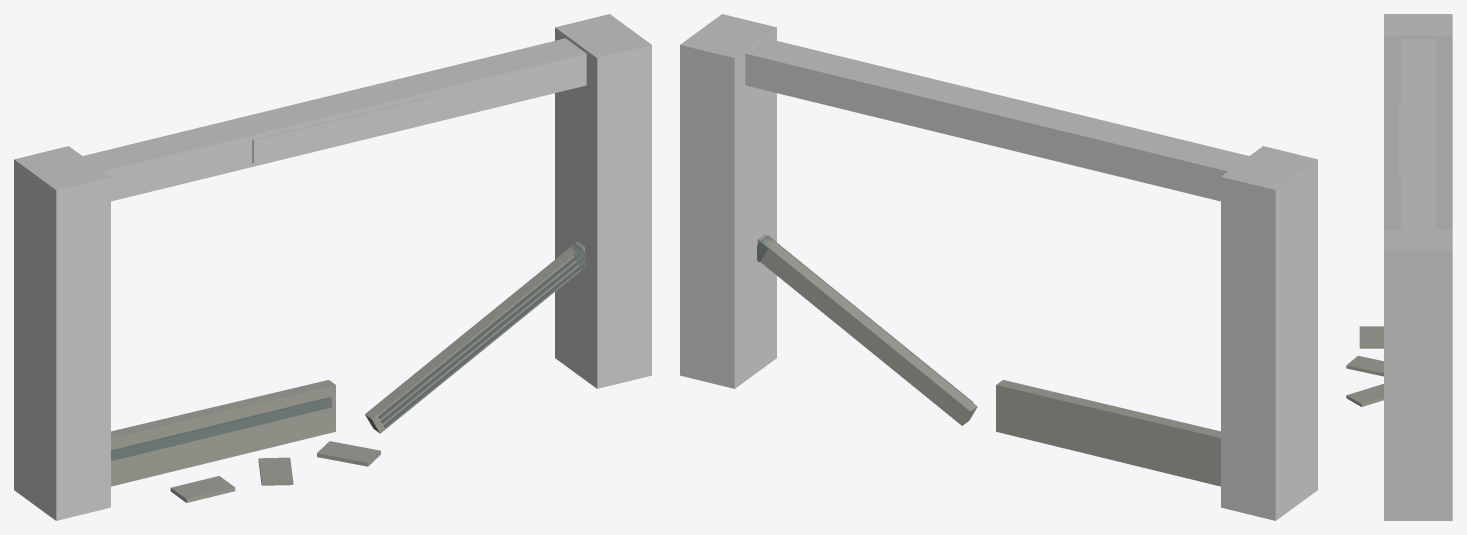
File: SM_PuertaVehiculos_v4_Blindada_e2_MuyDanado_LOD0.fbx
3 views of the same model, side by side, from view 1: azimuth 30°, elevation 25°; view 2: azimuth 150°, elevation 25°; view 3: azimuth 270°, elevation 25° (orthographic). The views are drawn at different scales.
Parts seen in each view (by area): view 1: SM_bloques.puerta_estados_v18_LOD0, Hoja_O, Hoja_E; view 2: SM_bloques.puerta_estados_v18_LOD0, Hoja_O, Hoja_E; view 3: SM_bloques.puerta_estados_v18_LOD0.
Part boxes in pixels (x1,y1,x2,y2): SM_bloques.puerta_estados_v18_LOD0: (14, 14, 651, 520); Hoja_O: (111, 380, 335, 486); Hoja_E: (365, 241, 586, 433); SM_bloques.puerta_estados_v18_LOD0: (680, 14, 1317, 520); Hoja_O: (996, 380, 1220, 486); Hoja_E: (757, 234, 977, 425); SM_bloques.puerta_estados_v18_LOD0: (1346, 14, 1452, 520).
Bounding box in the file's own units: 9.8 × 5.26 × 1.86.
